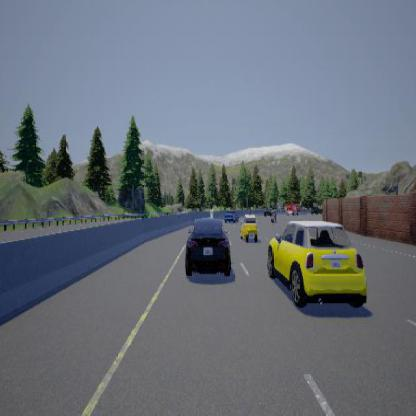vehicle: (266, 220, 366, 307), (185, 217, 230, 276), (240, 219, 257, 242), (284, 202, 302, 216), (223, 208, 237, 223), (262, 206, 276, 219)
